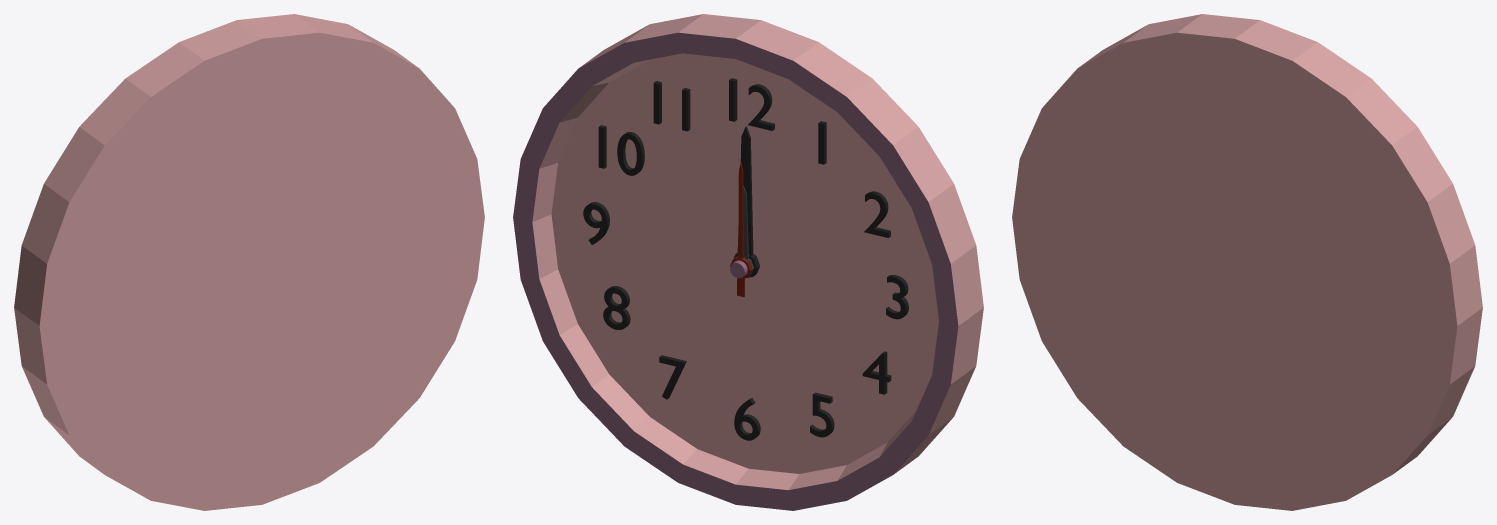
File: Clock.fbx
3 views of the same model, side by side, from view 1: azimuth 30°, elevation 25°; view 2: azimuth 150°, elevation 25°; view 3: azimuth 330°, elevation 25° (orthographic).
Visible parts, largest first — view 1: ClockBody; view 2: ClockBody, Numbers, Minute, Second; view 3: ClockBody.
Part boxes in pixels (box(x1,y1,x2,y2)): ClockBody: box(14, 14, 484, 510); ClockBody: box(513, 14, 983, 510); Numbers: box(583, 78, 908, 440); Minute: box(734, 126, 759, 277); Second: box(730, 162, 751, 296); ClockBody: box(1012, 14, 1482, 510).
Bounding box in the file's own units: 200 × 200 × 19.84.
